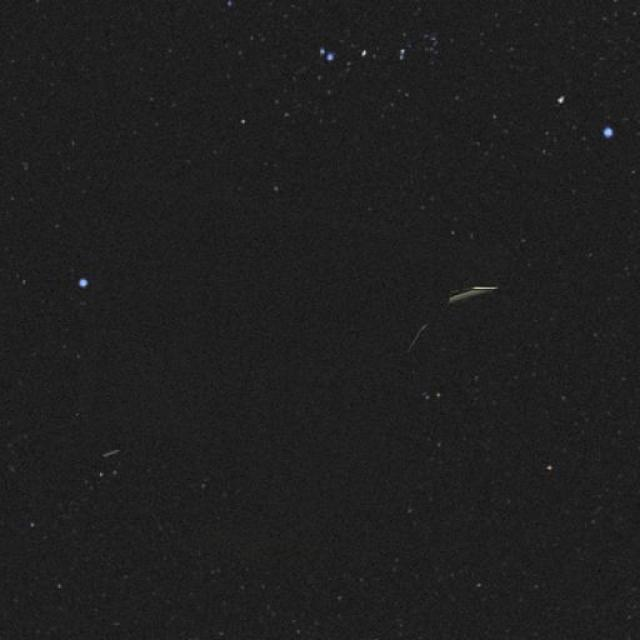debris: (343, 210, 547, 463)
